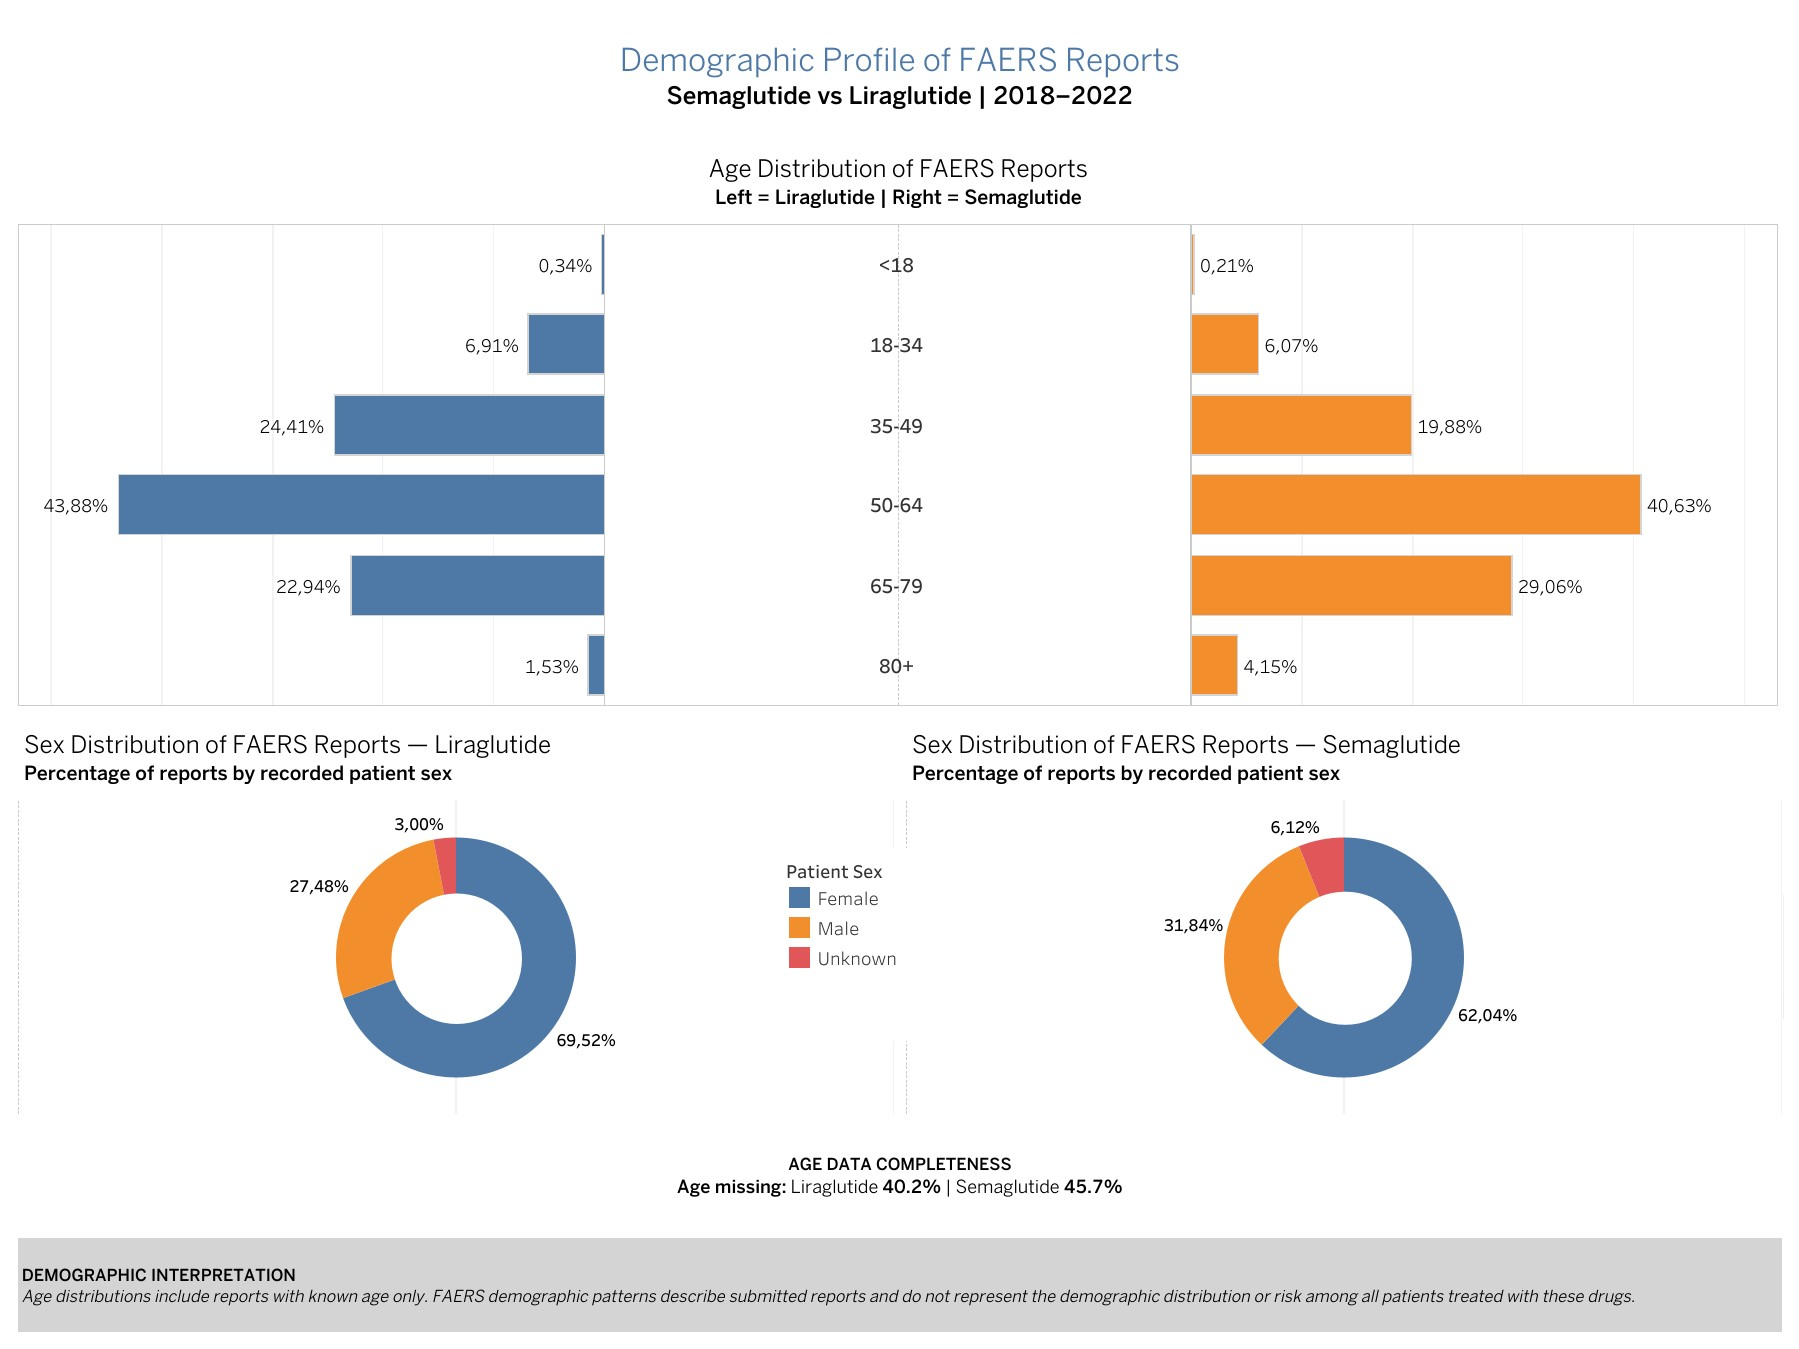

This screenshot's page, from the dashboard's own definition file:
{"tool":"tableau","page":{"name":"Dashboard 2","canvas":[1200,900],"ordinal":1},"visuals":[{"type":"title","box":[8,8,1184,83]},{"type":"worksheet","title":"Age Distribution","mark":"Bar","rows":["age_group"],"cols":["Calculation_0412098571644928","Calculation_0412098574770179","Calculation_0412098571812865"],"box":[8,91,1184,384.2]},{"type":"worksheet","title":"Sex - Liraglutide","mark":"Automatic","cols":["Calculation_0412098584256517","Calculation_0412098584256517"],"box":[8,475.2,592,271.8]},{"type":"worksheet","title":"Sex - Semaglutide","mark":"Automatic","cols":["Calculation_0412098584256517","Calculation_0412098584256517"],"box":[600,475.2,592,271.8]},{"type":"legend","title":"Sex - Liraglutide","param":"[federated.03xil4e0w8f2et1fzmoa31nzjxs7].[none:patient_sex:nk]","box":[519,565,198,109]},{"type":"text","box":[8,747,1184,74]},{"type":"text","box":[8,821,1184,71]}]}

Visuals, with their boxes in screenshot pixels (x1, y1, x2, y2), scaled from the page's 1200x900 canvas onto the 1799x1349 screenshot:
title: {"x1": 12, "y1": 12, "x2": 1787, "y2": 136}
"Age Distribution" worksheet (Bar marks): {"x1": 12, "y1": 136, "x2": 1787, "y2": 712}
"Sex - Liraglutide" worksheet: {"x1": 12, "y1": 712, "x2": 900, "y2": 1120}
"Sex - Semaglutide" worksheet: {"x1": 900, "y1": 712, "x2": 1787, "y2": 1120}
"Sex - Liraglutide" legend: {"x1": 778, "y1": 847, "x2": 1075, "y2": 1010}
text: {"x1": 12, "y1": 1120, "x2": 1787, "y2": 1231}
text: {"x1": 12, "y1": 1231, "x2": 1787, "y2": 1337}
